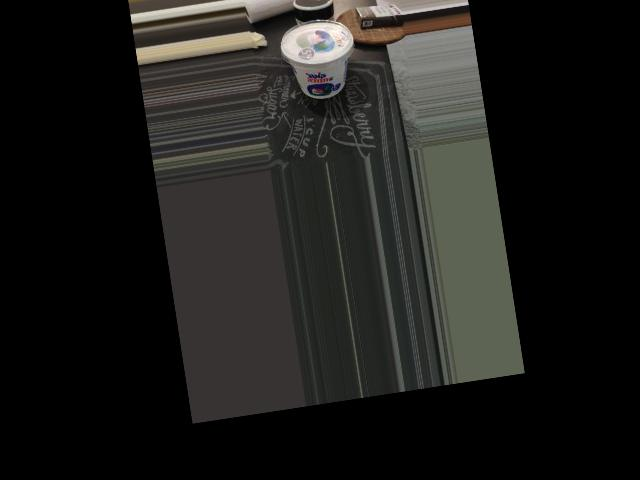cotage: (277, 14, 358, 108)
